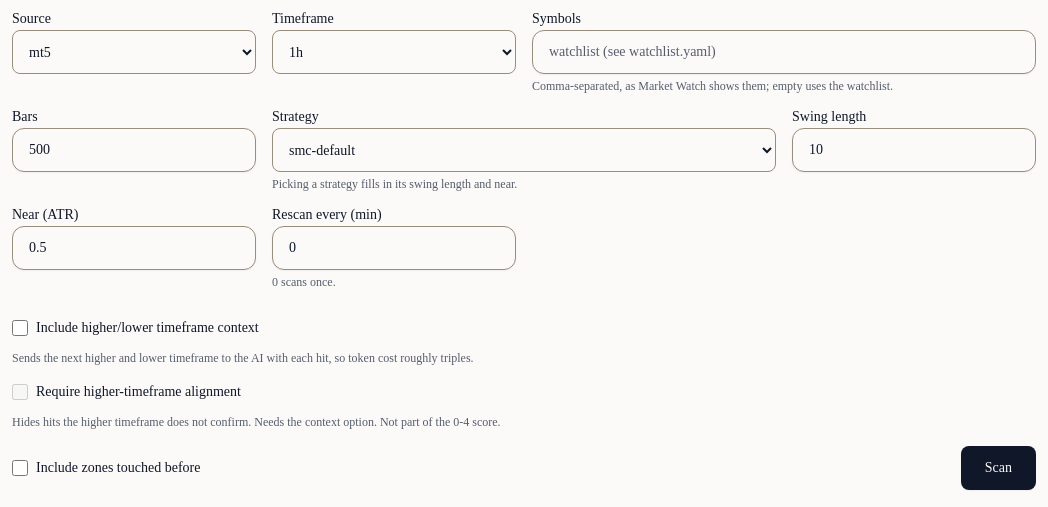
Scenario: ScanForm multi-timeframe options › enables the second option with the first, and clears it when the first goes off
Click the checkbox labelled "Include higher/lower timeframe context" at [20, 328], box [12,320,28,336]
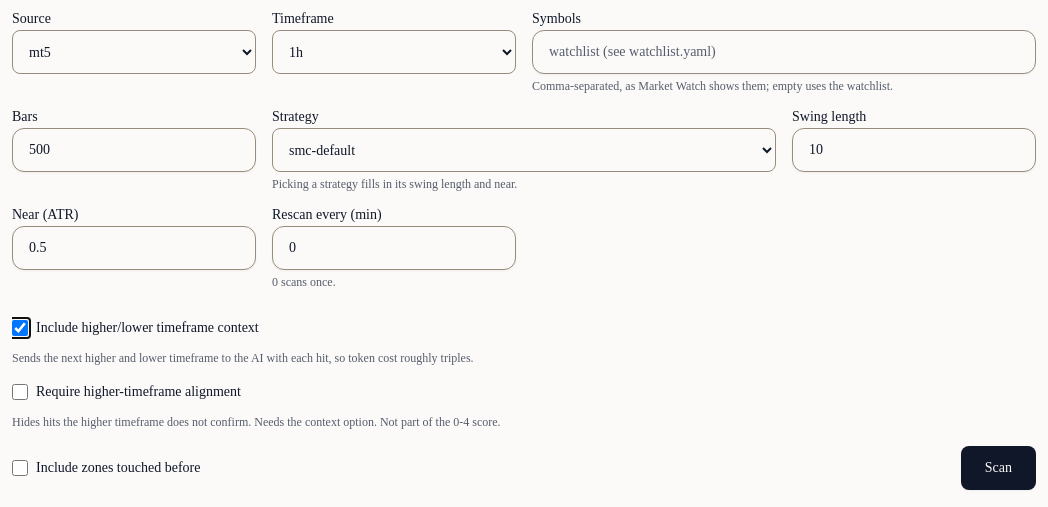
Now the checkbox labelled "Require higher-timeframe alignment" is enabled
Click the checkbox labelled "Require higher-timeframe alignment" at [20, 392], box [12,384,28,400]
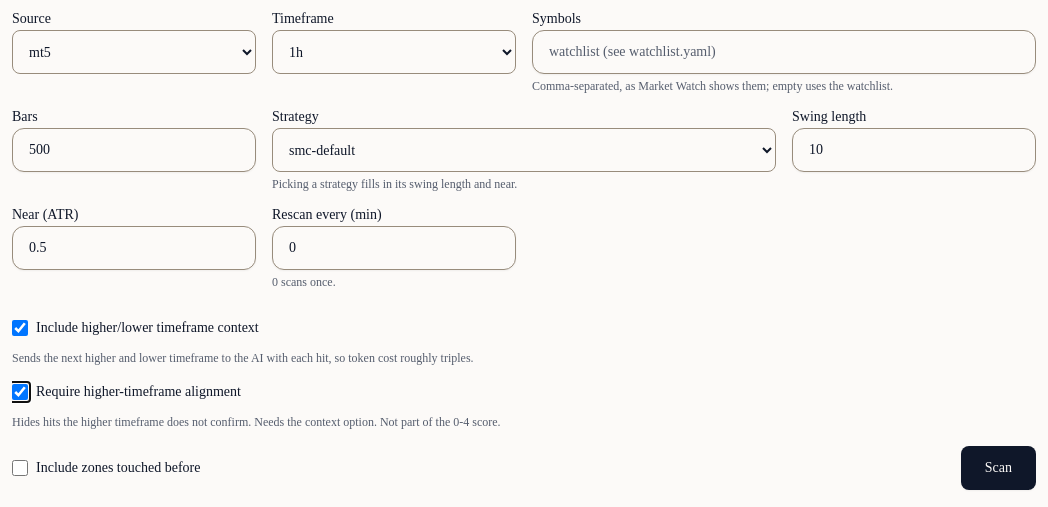
Now the checkbox labelled "Require higher-timeframe alignment" is checked, box [12,384,28,400]
Click the checkbox labelled "Include higher/lower timeframe context" at [20, 328], box [12,320,28,336]
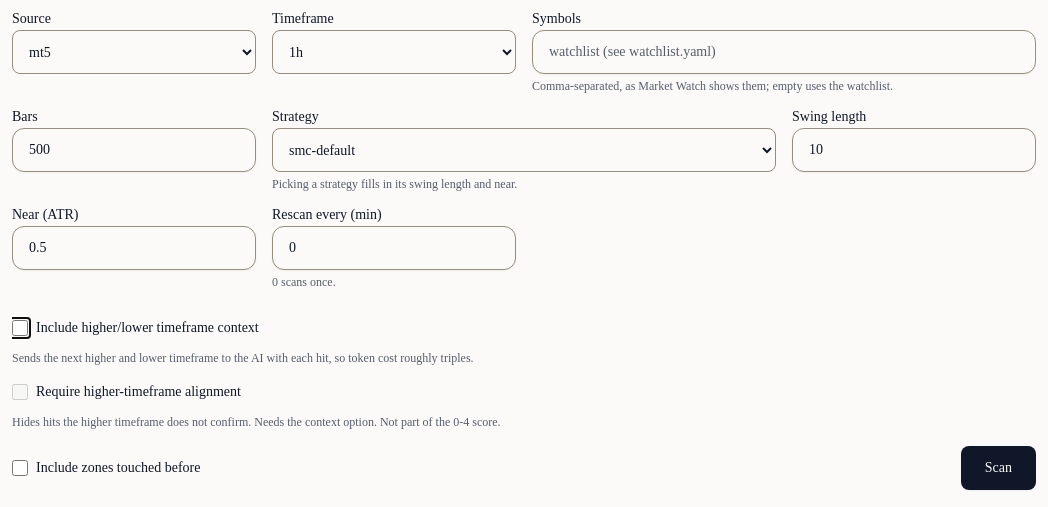
Now the checkbox labelled "Require higher-timeframe alignment" is not checked, box [12,384,28,400]
Now the checkbox labelled "Require higher-timeframe alignment" is disabled, box [12,384,28,400]
